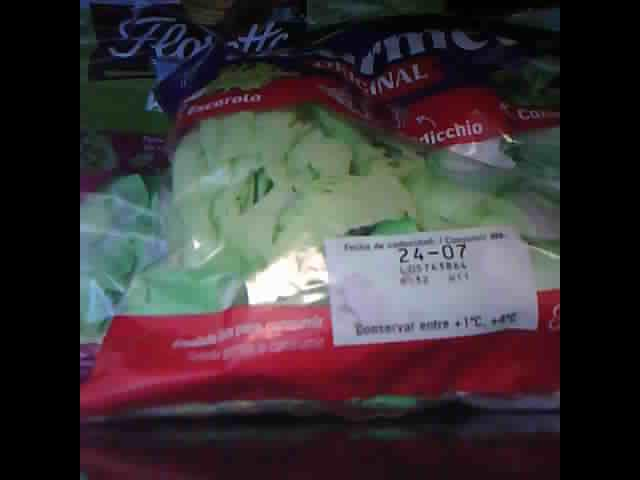florette: (82, 3, 557, 422), (82, 3, 305, 429)
